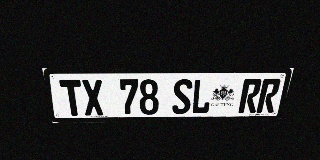7: (118, 79, 139, 115)
8: (139, 79, 159, 115)
L: (191, 79, 213, 114)
R: (256, 78, 282, 113), (238, 79, 263, 113)
S: (172, 79, 193, 114)
T: (59, 80, 85, 116)
X: (81, 79, 105, 116)
